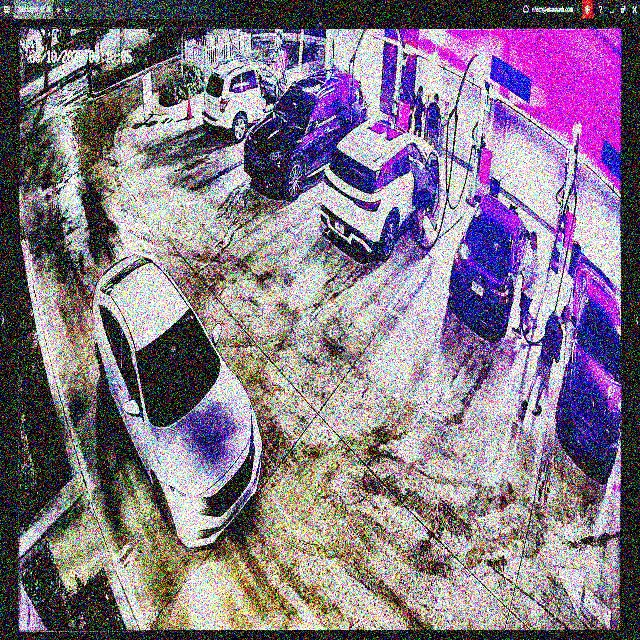Car: (91, 253, 263, 551), (321, 111, 443, 256), (244, 63, 368, 183), (448, 192, 532, 338)
